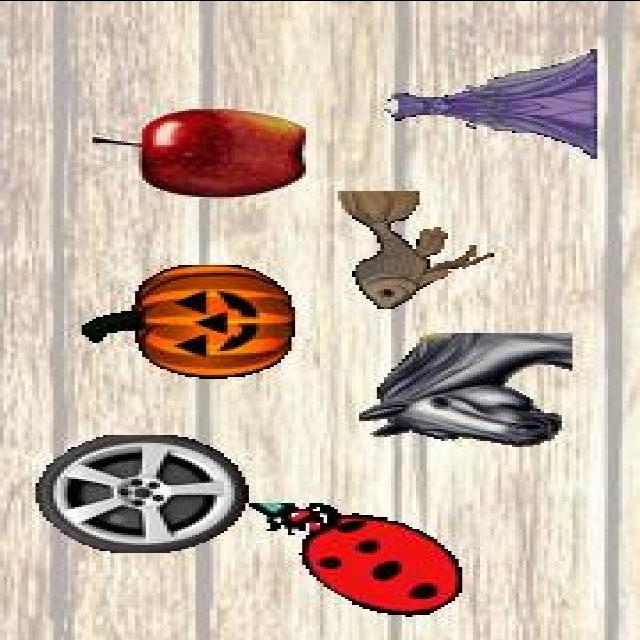Other Objects: (378, 48, 600, 158), (250, 501, 462, 616), (88, 107, 307, 198)
